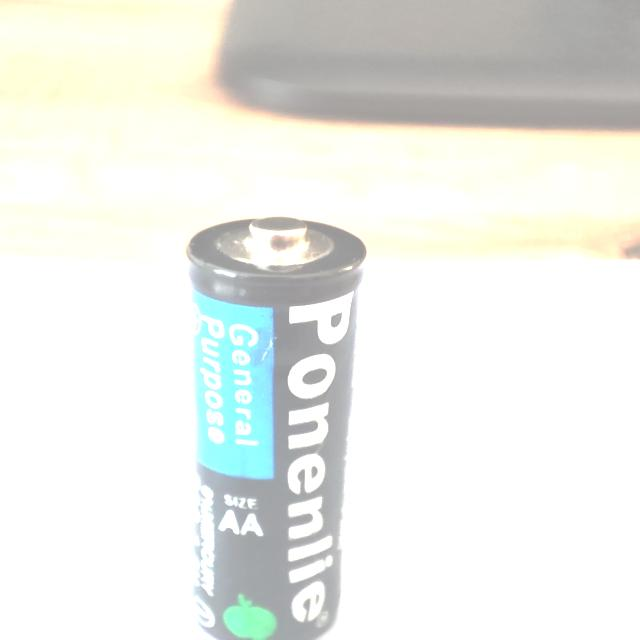AA: (182, 211, 371, 640)
